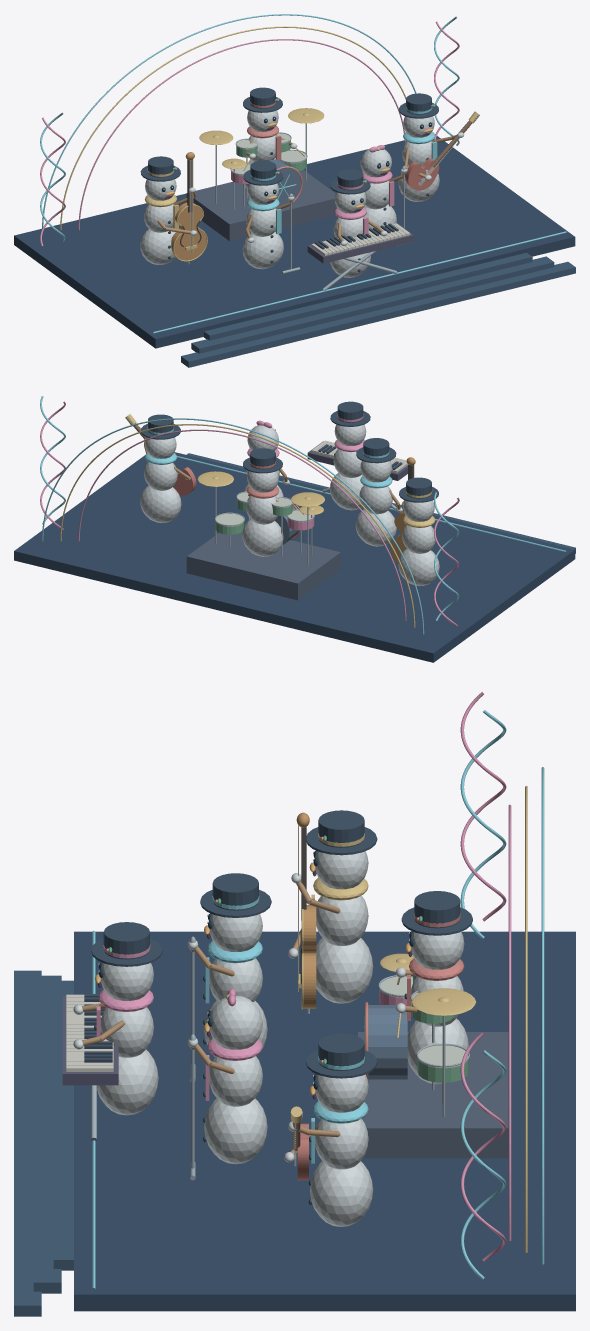
File: band_Refined_3D.glb
The picture shows the model from 3 angles, top to bottom: view 1: azimuth 30°, elevation 25°; view 2: azimuth 150°, elevation 25°; view 3: azimuth 270°, elevation 25°; orthographic projection. The views are drawn at different scales.
Parts seen in each view (by area): view 1: stage_0, step_2_3, drum_riser_4, step_1_2, step_0_1, upright_bass_body_curve_13, lead_base_149, stage_arch_curve_4, stage_front_curve_7, bass_base_61, stage_arch_curve_6, stage_arch_curve_5 (+24 smaller); view 2: stage_0, drum_riser_4, guitar_base_95, drummer_base_5, stage_arch_curve_4, bass_base_61, stage_arch_curve_5, lead_base_149, stage_arch_curve_6, piano_base_221, guitar_torso_96, bass_torso_62 (+25 smaller); view 3: stage_0, drum_riser_4, step_2_3, step_1_2, step_0_1, harmony_base_183, guitar_base_95, bass_base_61, kick_shell_25, piano_base_221, harmony_head_185, harmony_torso_184 (+32 smaller).
Boxes of the visible parts, x1,y1,x2,y2 form: stage_0: [14, 134, 575, 348]; step_2_3: [181, 261, 575, 367]; drum_riser_4: [186, 169, 336, 241]; step_1_2: [191, 256, 554, 353]; step_0_1: [204, 252, 532, 340]; upright_bass_body_curve_13: [171, 202, 206, 260]; lead_base_149: [242, 231, 283, 269]; stage_arch_curve_4: [42, 14, 416, 228]; stage_front_curve_7: [153, 231, 566, 333]; bass_base_61: [140, 227, 175, 264]; stage_arch_curve_6: [78, 39, 405, 230]; stage_arch_curve_5: [60, 26, 406, 230]; stage_0: [14, 452, 575, 662]; drum_riser_4: [186, 532, 340, 600]; guitar_base_95: [140, 485, 181, 523]; drummer_base_5: [242, 519, 283, 556]; stage_arch_curve_4: [42, 418, 424, 634]; bass_base_61: [398, 549, 439, 585]; stage_arch_curve_5: [60, 424, 415, 627]; lead_base_149: [355, 509, 396, 546]; stage_arch_curve_6: [78, 429, 406, 620]; piano_base_221: [330, 473, 363, 510]; guitar_torso_96: [144, 462, 177, 490]; bass_torso_62: [402, 525, 435, 553]; stage_0: [74, 931, 575, 1311]; drum_riser_4: [358, 1032, 508, 1158]; step_2_3: [14, 970, 41, 1316]; step_1_2: [33, 975, 61, 1293]; step_0_1: [53, 980, 73, 1270]; harmony_base_183: [204, 1098, 267, 1164]; guitar_base_95: [310, 1161, 373, 1226]; bass_base_61: [316, 938, 373, 1003]; kick_shell_25: [368, 1005, 407, 1079]; piano_base_221: [97, 1049, 158, 1115]; harmony_head_185: [209, 995, 262, 1049]; harmony_torso_184: [209, 1056, 262, 1106].
Bounding box in the file's own units: 13 × 5.65 × 8.51.
